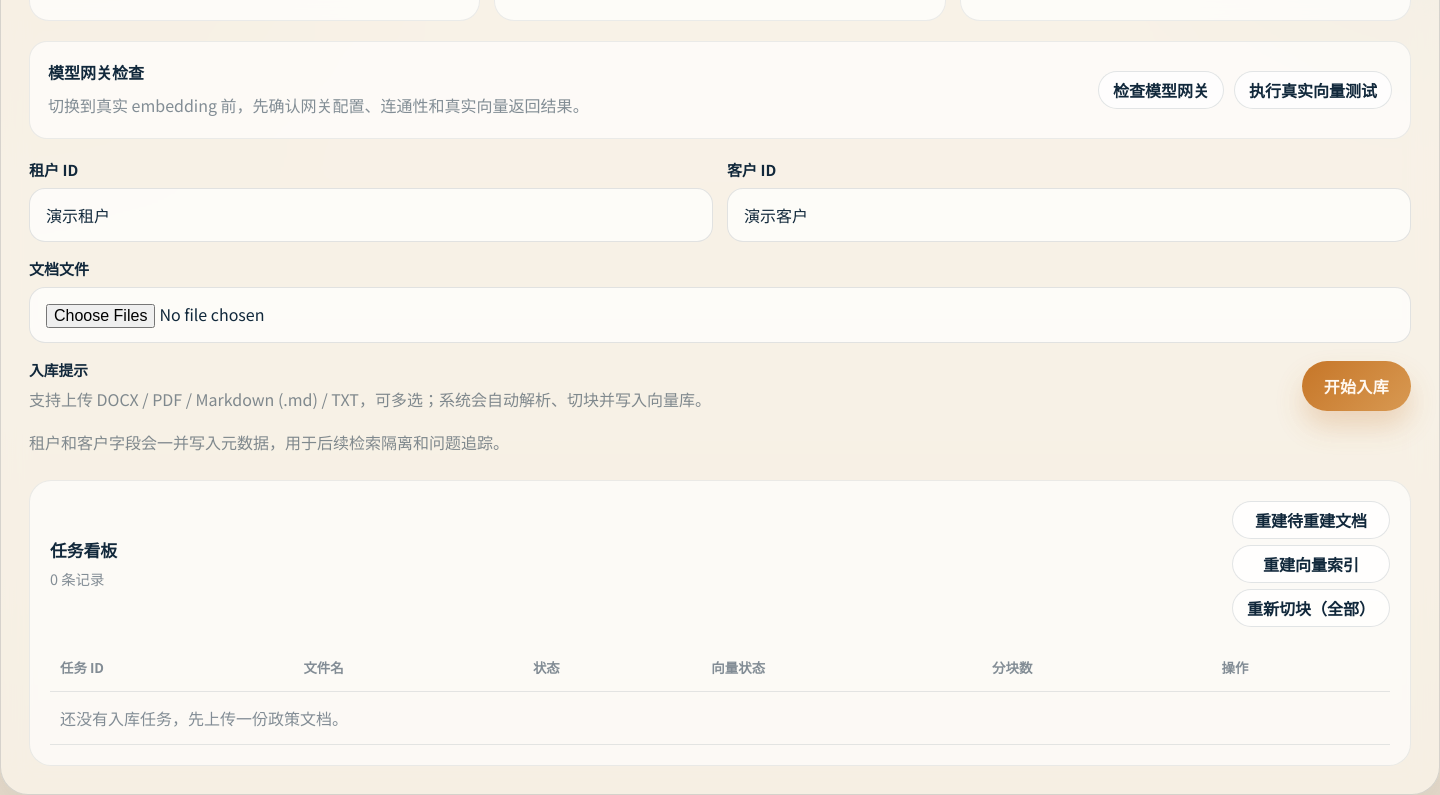
Test: rebuilds knowledge vectors and shows the result summary
(page scrolled)
Click the button "重建向量索引". click: {"x": 1311, "y": 564}
box: [1232, 545, 1390, 583]
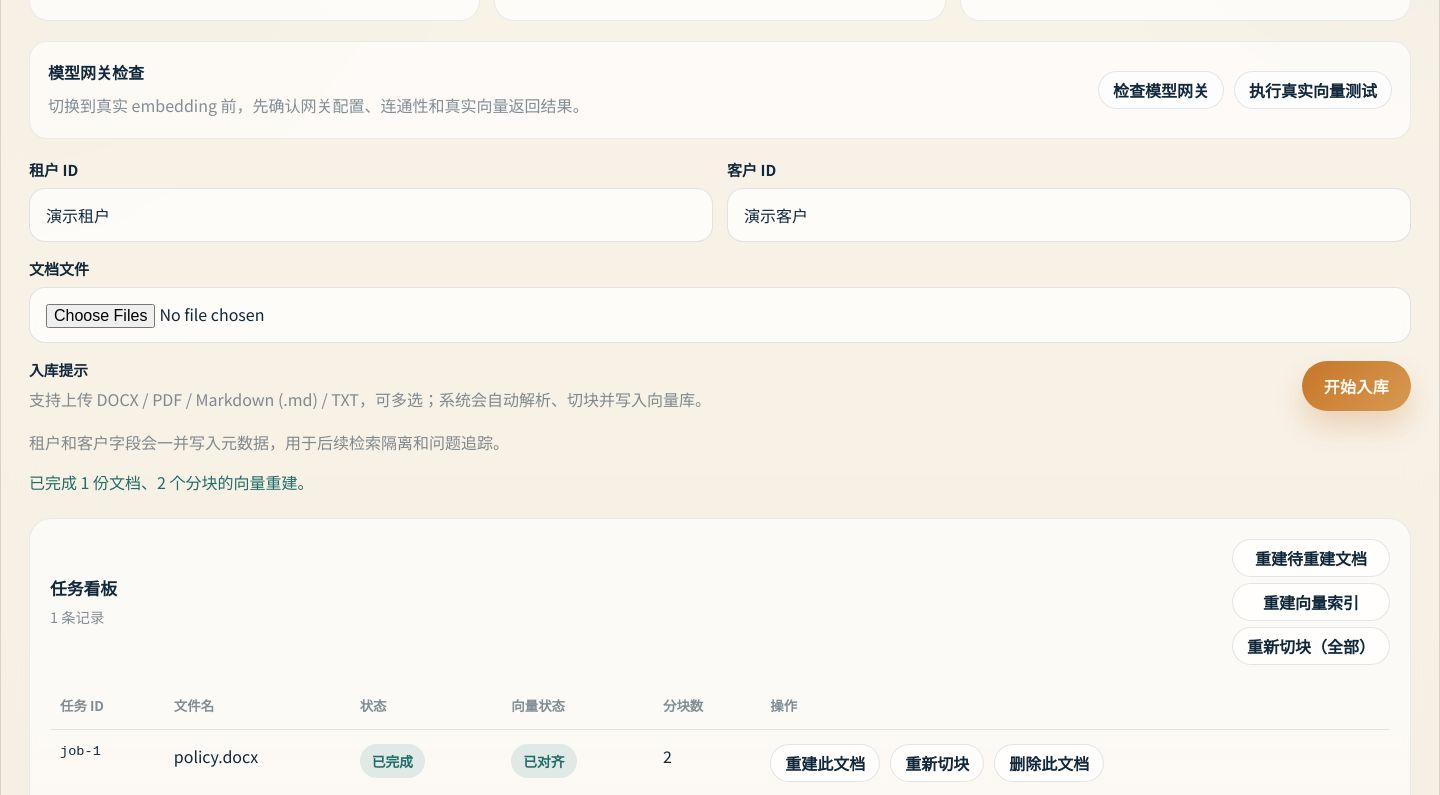
Result: the text "已完成 1 份文档、2 个分块的向量重建。" is shown at [29, 470, 314, 494]
